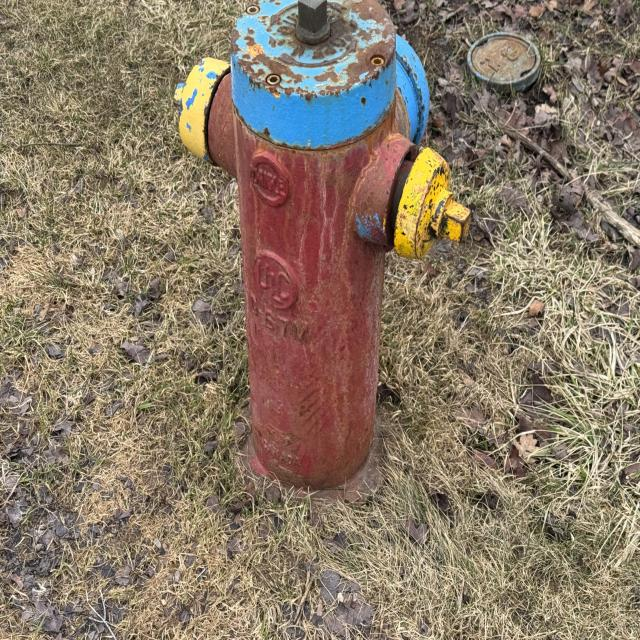Fire hydrant: (170, 1, 474, 514)
